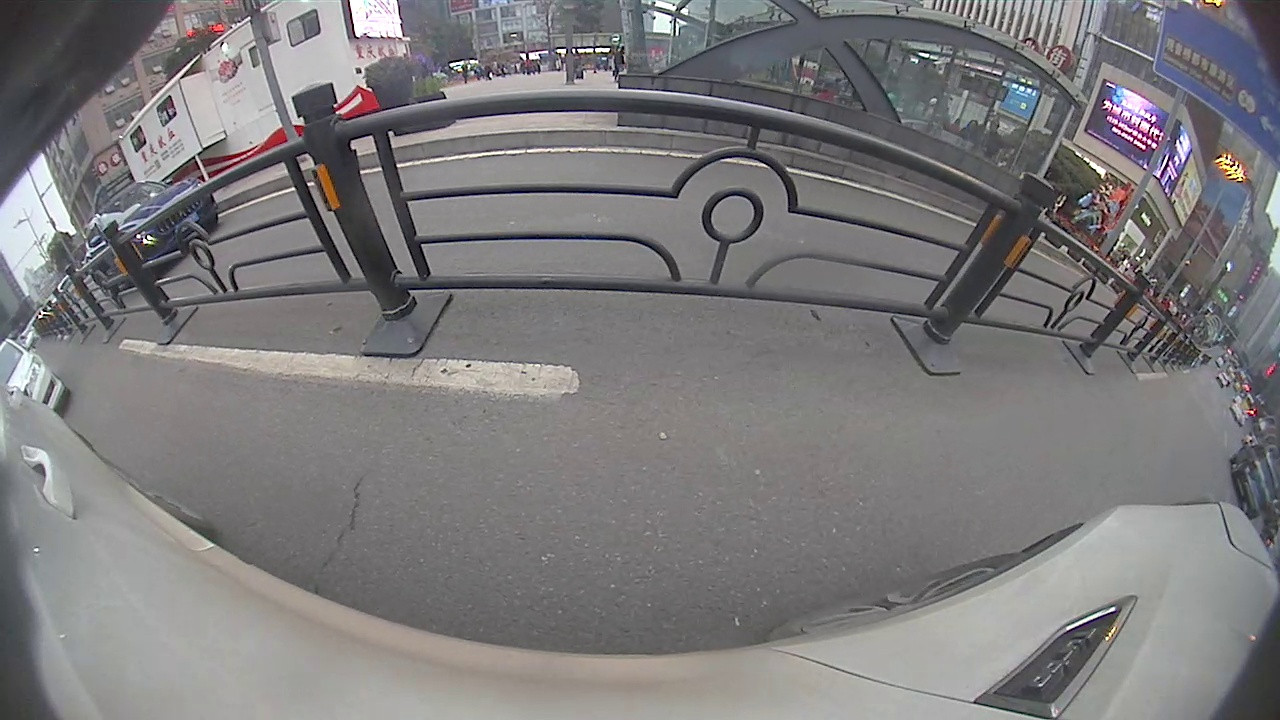car: (83, 181, 218, 296)
